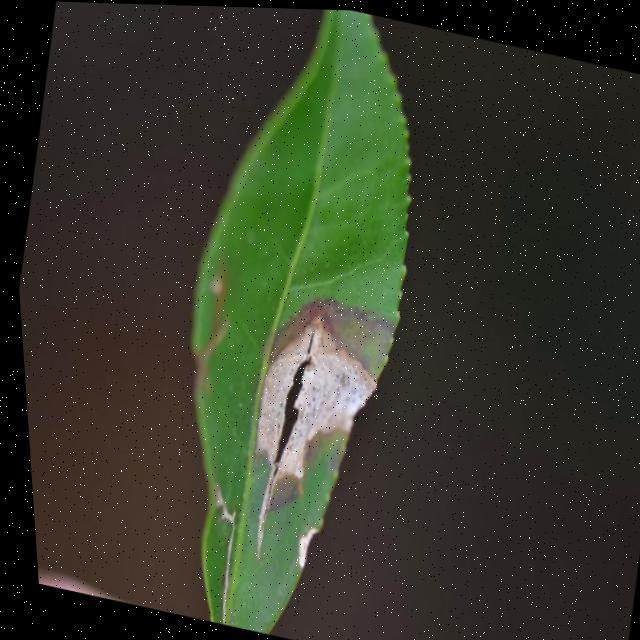Tea cloud leaf blight: (228, 286, 403, 533)
